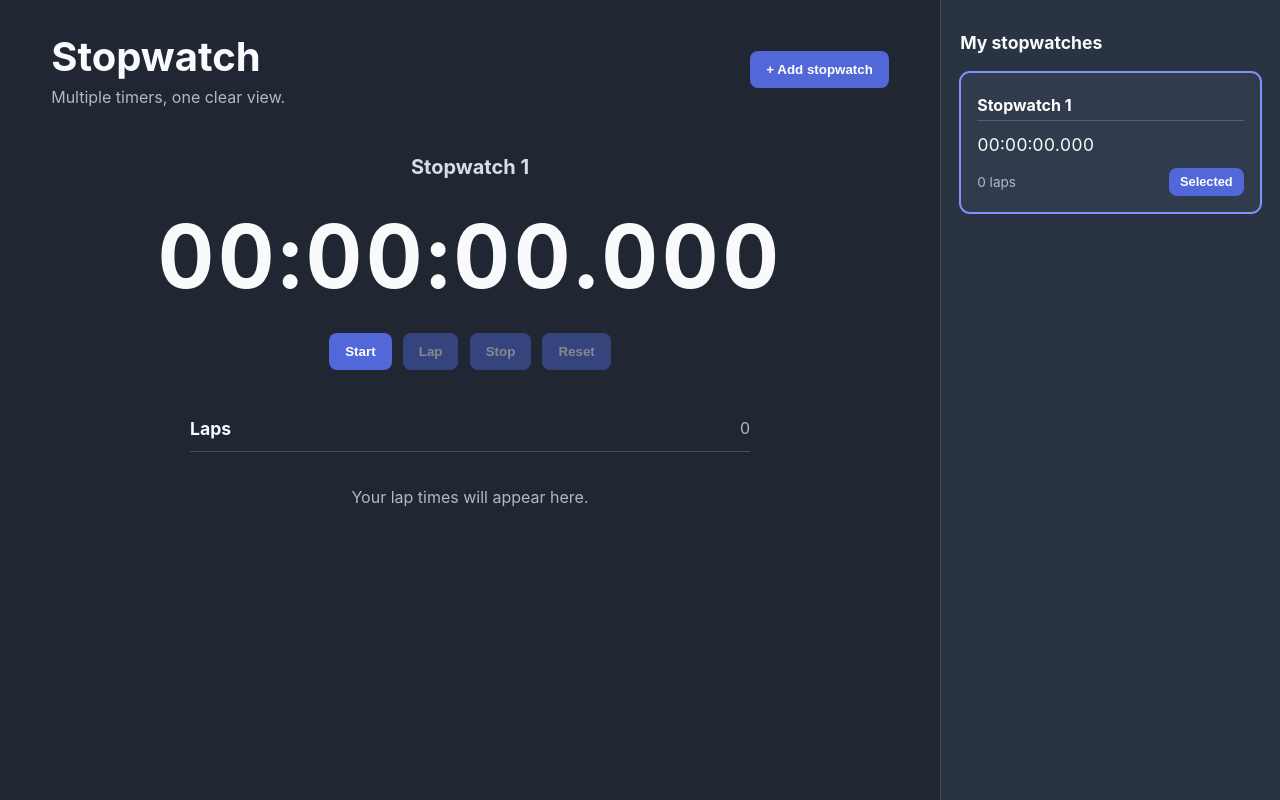
records a lap while the stopwatch is running
This screenshot has width=1280, height=800.
Click the button "Start". click: [360, 351]
box: x1=329 y1=333 x2=392 y2=370
Wait 100 ms
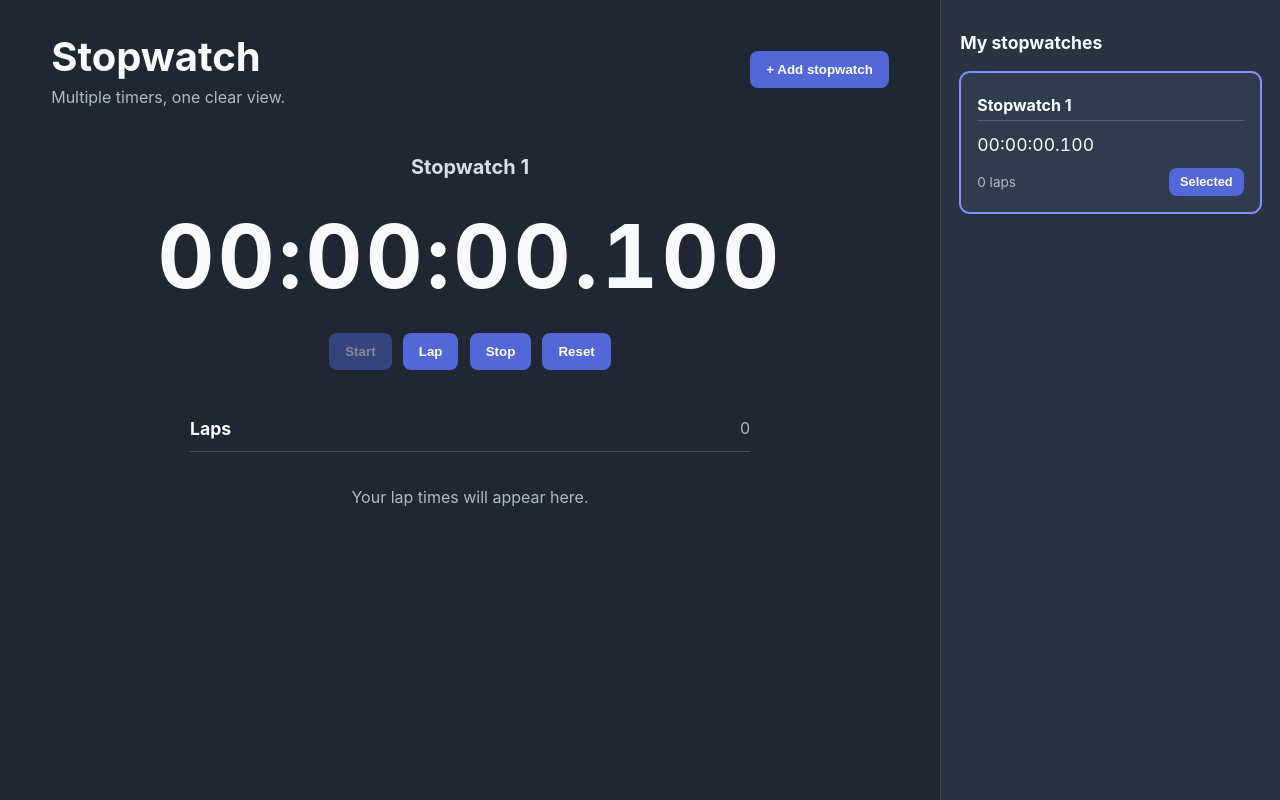
Click the button "Lap". click: [431, 351]
box: x1=403 y1=333 x2=458 y2=370
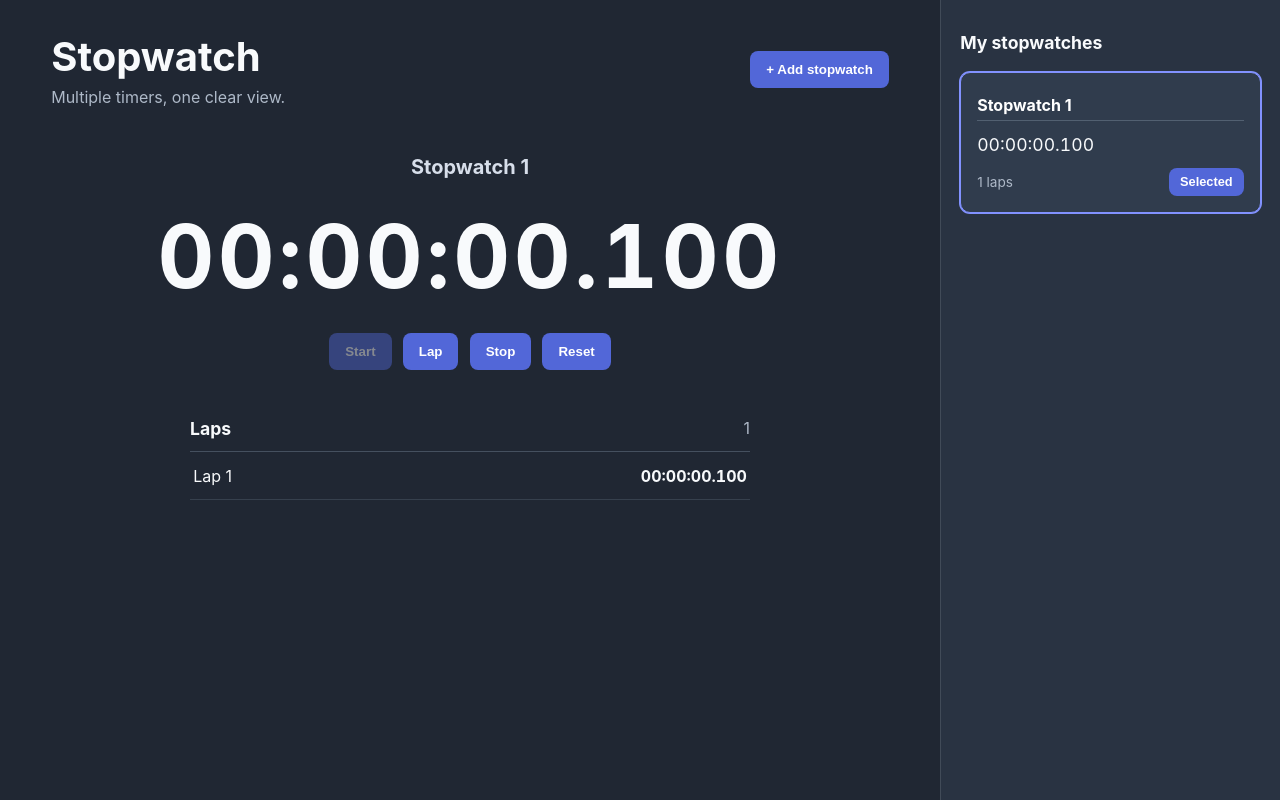
Now the text "Lap 1" is shown, box x1=193 y1=466 x2=232 y2=486
